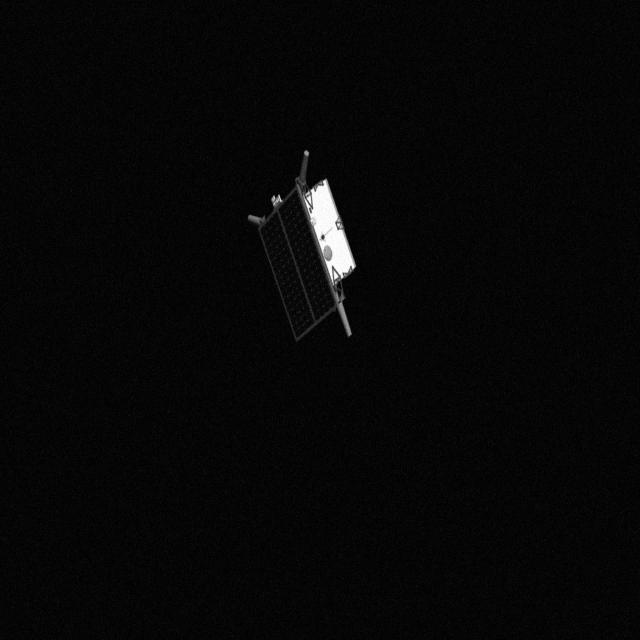medium_debris: (236, 158, 388, 364)
